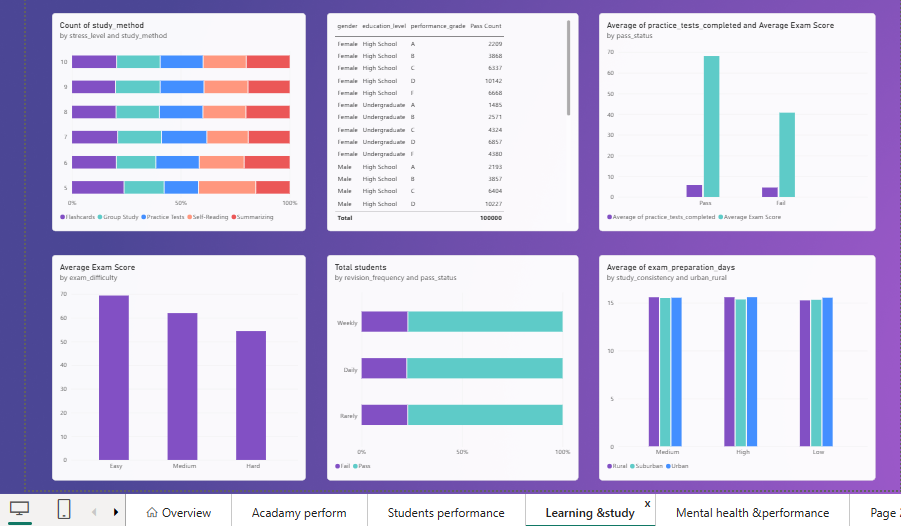

This screenshot's page, from the dashboard's own definition file:
{"tool":"powerbi","page":{"name":"Learning &study","canvas":[1920,1080],"ordinal":3},"visuals":[{"type":"hundredPercentStackedBarChart","fields":{"Category":["student_exam_performance.stress_level"],"Series":["student_exam_performance.study_method"],"Y":["CountNonNull(student_exam_performance.study_method)"]},"box":[57.3,32.1,556.8,478.9],"z":0},{"type":"tableEx","fields":{"Values":["student_exam_performance.gender","student_exam_performance.education_level","student_exam_performance.performance_grade","student_exam_performance.Pass Count"]},"box":[659.9,32.1,552.2,478.9],"z":1000},{"type":"columnChart","fields":{"Category":["student_exam_performance.exam_difficulty"],"Y":["student_exam_performance.Average Exam Score"]},"box":[57.3,563.6,556.8,494.9],"z":2000},{"type":"hundredPercentStackedBarChart","fields":{"Category":["student_exam_performance.revision_frequency"],"Series":["student_exam_performance.pass_status"],"Y":["student_exam_performance.Total students"]},"box":[659.9,563.6,552.2,494.9],"z":3000},{"type":"clusteredColumnChart","fields":{"Category":["student_exam_performance.pass_status"],"Y":["Avg(student_exam_performance.practice_tests_completed)","student_exam_performance.Average Exam Score"]},"box":[1257.9,32.1,607.2,478.9],"z":4000},{"type":"clusteredColumnChart","fields":{"Category":["student_exam_performance.study_consistency"],"Series":["student_exam_performance.urban_rural"],"Y":["Avg(student_exam_performance.exam_preparation_days)"]},"box":[1257.9,563.6,607.2,494.9],"z":5000}]}

Visuals, with their boxes on the page's 1920x1080 design canvas (x1, y1, x2, y2). These are canvas units, not pixel positions in the 901x526 screenshot, which may show the page scaled, cropped or inside an application window:
hundredPercentStackedBarChart - student_exam_performance.stress_level x student_exam_performance.study_method: (57,32,614,511)
tableEx - student_exam_performance.gender x student_exam_performance.education_level: (660,32,1212,511)
columnChart - student_exam_performance.exam_difficulty x student_exam_performance.Average Exam Score: (57,564,614,1058)
hundredPercentStackedBarChart - student_exam_performance.revision_frequency x student_exam_performance.pass_status: (660,564,1212,1058)
clusteredColumnChart - student_exam_performance.pass_status x Avg(student_exam_performance.practice_tests_completed): (1258,32,1865,511)
clusteredColumnChart - student_exam_performance.study_consistency x student_exam_performance.urban_rural: (1258,564,1865,1058)
